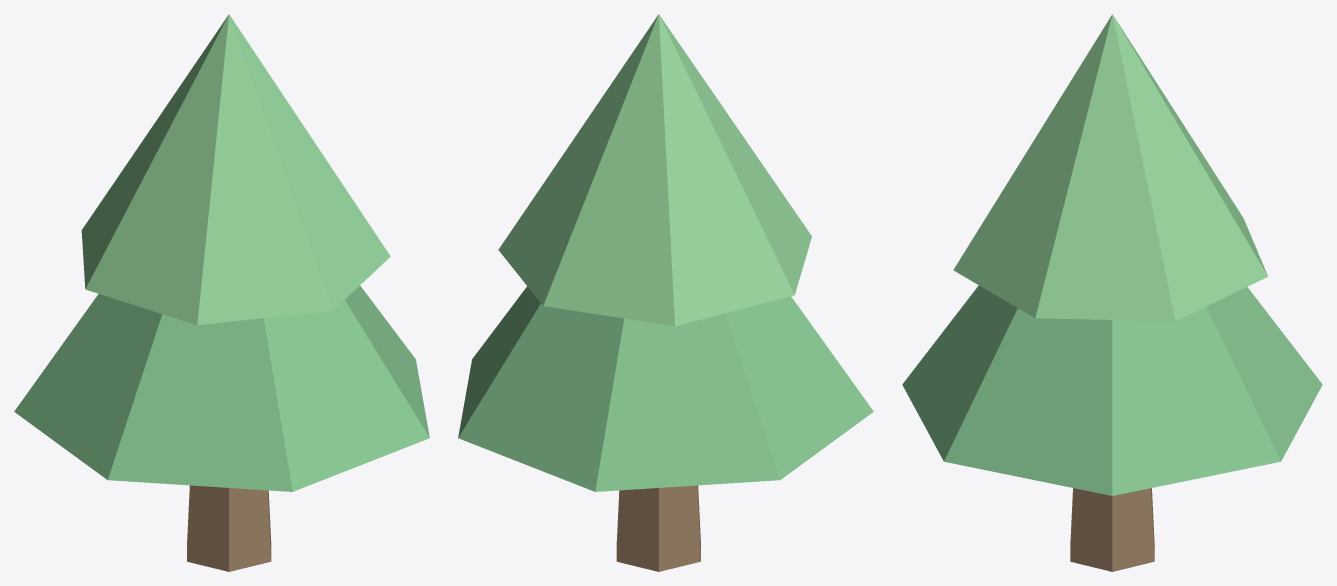
File: tree.glb
3 views of the same model, side by side, from view 1: azimuth 30°, elevation 25°; view 2: azimuth 150°, elevation 25°; view 3: azimuth 270°, elevation 25° (orthographic).
Bounding box in the file's own units: 1.52 × 2.2 × 1.56.
